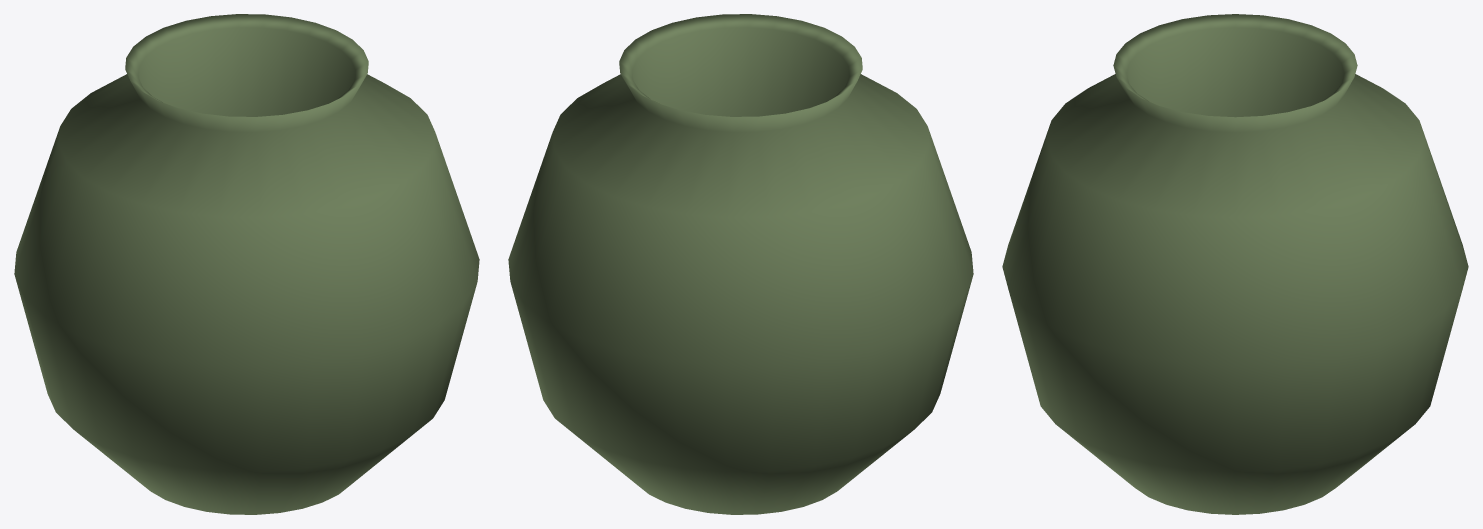
File: i_vase_3_0.glb
3 renders of one model, left to right at view 1: azimuth 30°, elevation 25°; view 2: azimuth 150°, elevation 25°; view 3: azimuth 270°, elevation 25°, orthographic.
Visible parts, largest first — view 1: o; view 2: o; view 3: o.
Boxes of the visible parts, <box> form: o: <box>14,14,479,514</box>; o: <box>508,14,973,514</box>; o: <box>1002,14,1468,514</box>.
Size of the model in its own units: 0.21 by 0.2 by 0.21.
